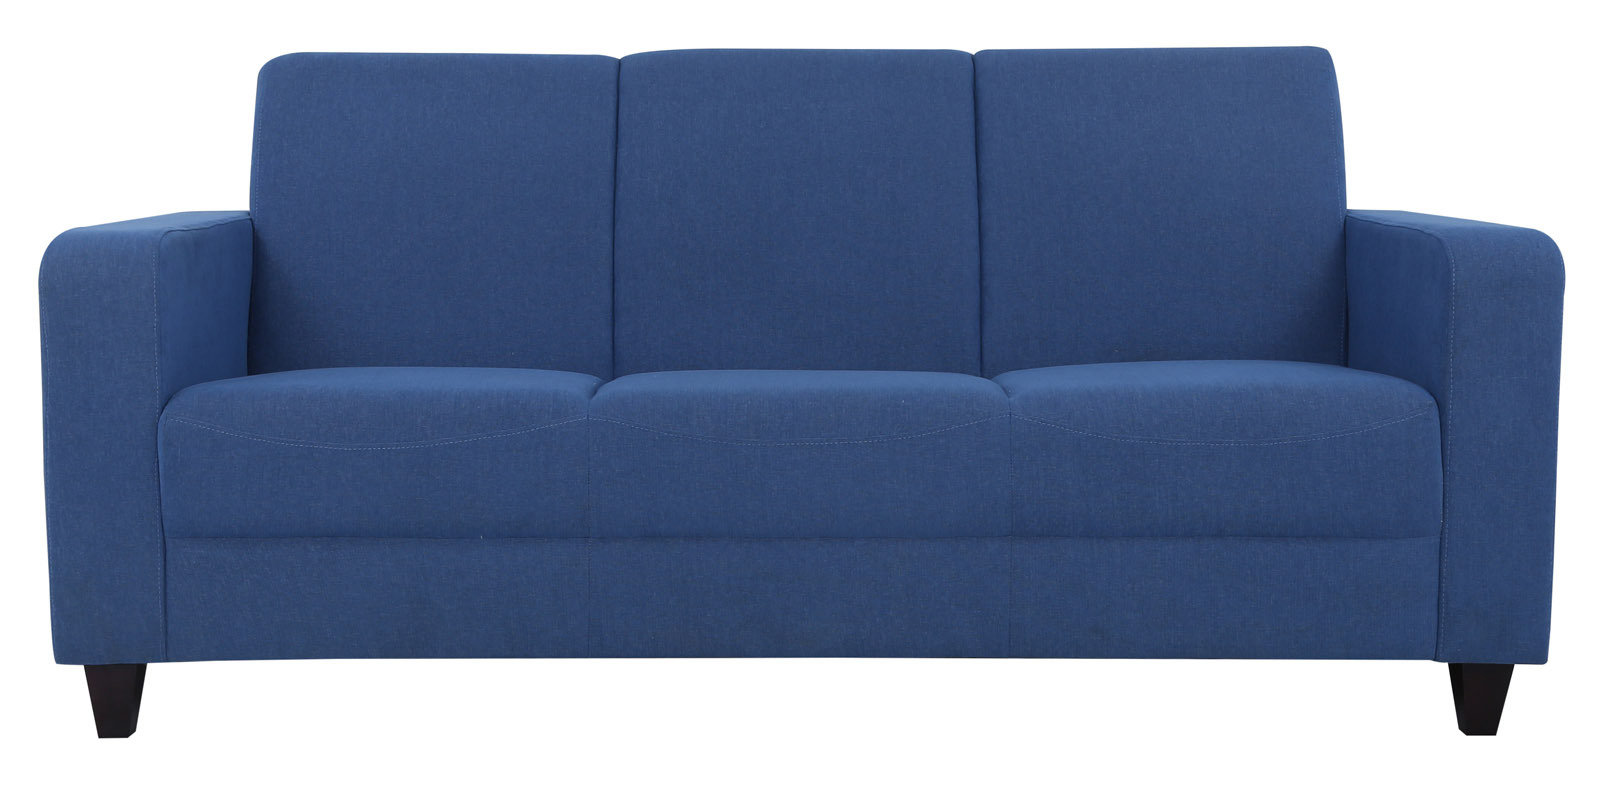Alba Three Seater Sofa in Denim Blue Colour by CasaCraft: (35, 40, 1570, 743)
